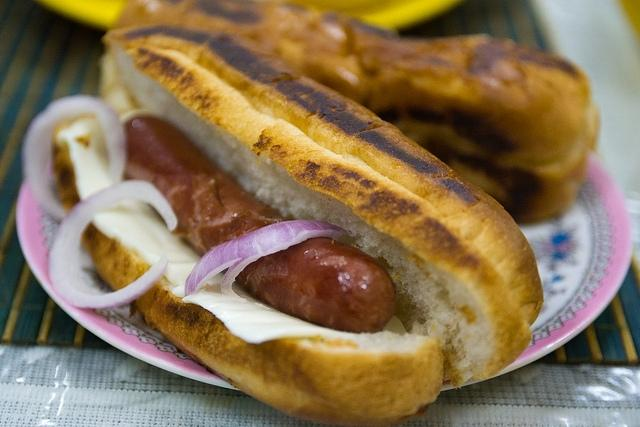onion: (48, 179, 178, 309), (20, 95, 128, 225), (185, 220, 346, 300)
